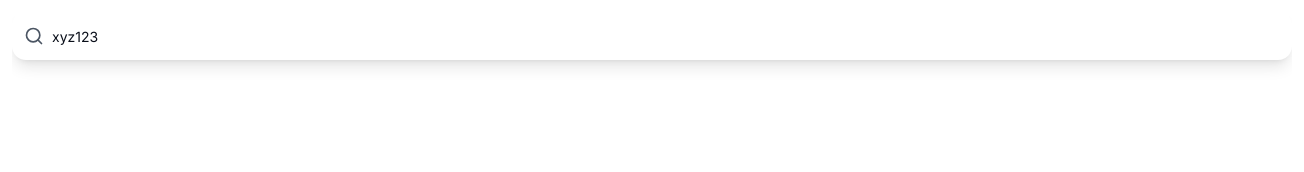
MapLocationSearch › shows No matching locations for a non-matching query
Focus to open dropdown
Step 1. Focus the dropdown with test id "map-search-input" → (652, 36), box [12,12,1292,60]
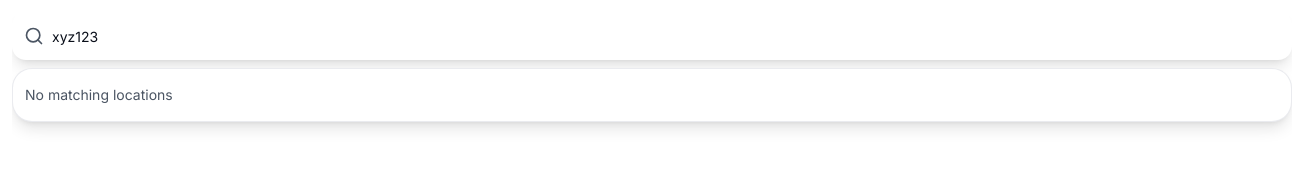
Expected: the option with test id "map-search-empty" reads "No matching locations", [25,86,173,103]
